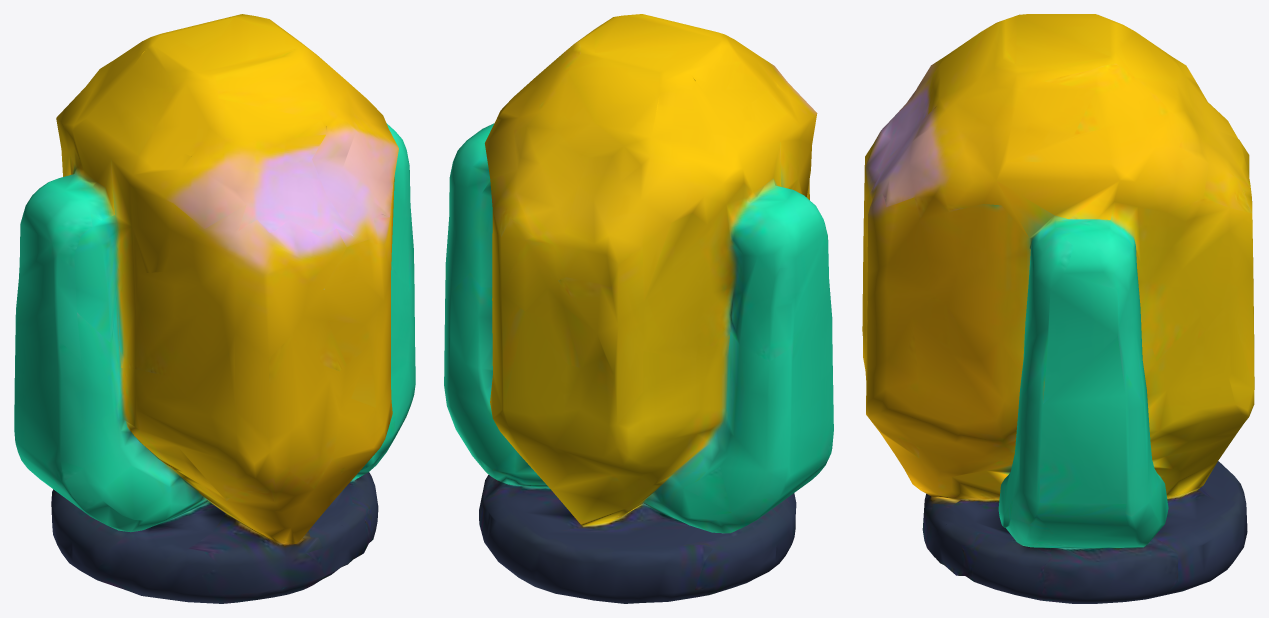
Rendered from upgrade-core.glb.
3 renders of one model, left to right at view 1: azimuth 30°, elevation 25°; view 2: azimuth 150°, elevation 25°; view 3: azimuth 270°, elevation 25°, orthographic. The views are drawn at different scales.
Parts seen in each view (by area): view 1: tripo_node_b933e8df-2ca3-47ca-a403-353057b1d2ff; view 2: tripo_node_b933e8df-2ca3-47ca-a403-353057b1d2ff; view 3: tripo_node_b933e8df-2ca3-47ca-a403-353057b1d2ff.
Part boxes in pixels (x1,y1,x2,y2): tripo_node_b933e8df-2ca3-47ca-a403-353057b1d2ff: [14, 14, 415, 603]; tripo_node_b933e8df-2ca3-47ca-a403-353057b1d2ff: [444, 14, 833, 603]; tripo_node_b933e8df-2ca3-47ca-a403-353057b1d2ff: [862, 14, 1254, 603].
Size of the model in its own units: 0.7379 by 0.9999 by 0.7018.
1 material, 1 textured.
